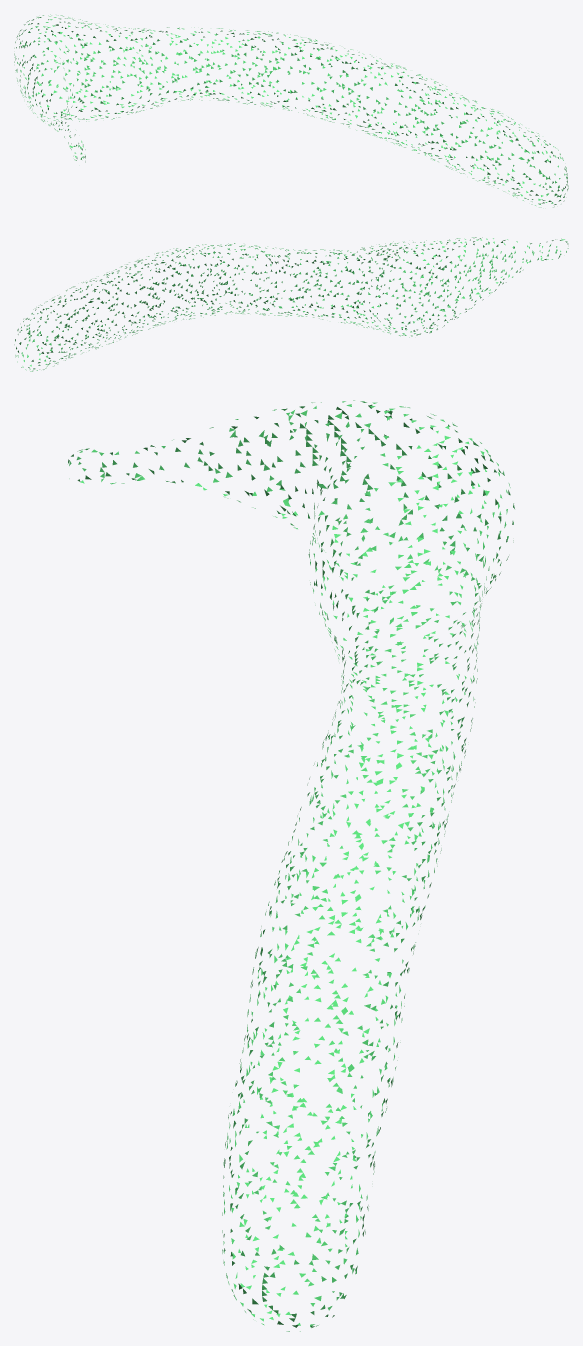
File: morph_020.glb
3 renders of one model, top to bottom at view 1: azimuth 30°, elevation 25°; view 2: azimuth 150°, elevation 25°; view 3: azimuth 270°, elevation 25°, orthographic. The views are drawn at different scales.
Bounding box in the file's own units: 123 × 59.42 × 48.32.
